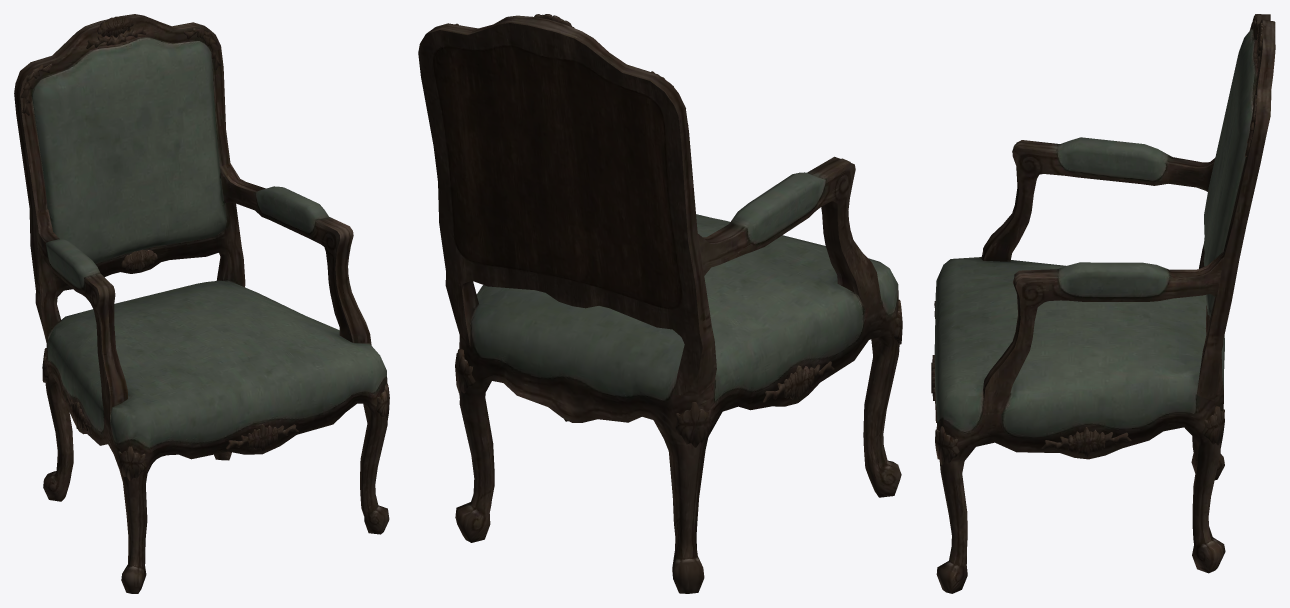
Rendered from chair_v3_story.glb.
The picture shows the model from 3 angles, left to right: view 1: azimuth 30°, elevation 25°; view 2: azimuth 150°, elevation 25°; view 3: azimuth 270°, elevation 25°; orthographic projection. The views are drawn at different scales.
Visible parts, largest first — view 1: GreenChair_01; view 2: GreenChair_01; view 3: GreenChair_01.
Part boxes in pixels (bbox=[...]): GreenChair_01: bbox=[14, 14, 389, 593]; GreenChair_01: bbox=[418, 14, 902, 593]; GreenChair_01: bbox=[931, 14, 1275, 593].
Bounding box in the file's own units: 0.6732 × 1.06 × 0.6646.
1 material, 1 textured.
